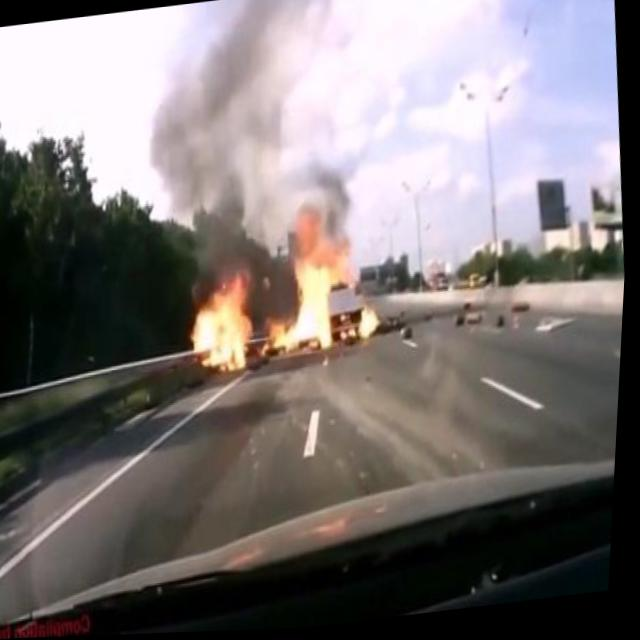fire: (179, 196, 392, 393)
